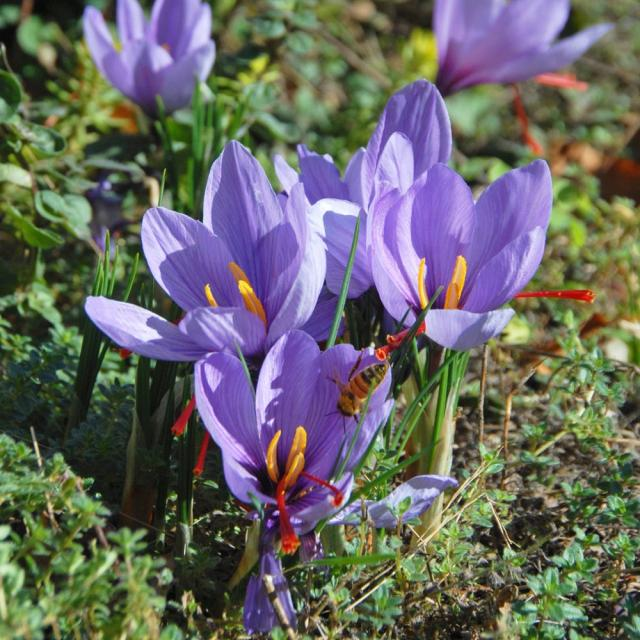saffron open: (86, 141, 325, 361), (195, 330, 394, 554), (370, 160, 551, 350), (434, 0, 614, 95), (85, 0, 215, 114)
